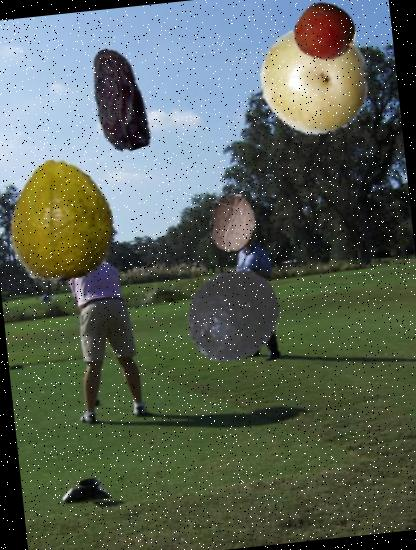Avocado: (180, 262, 290, 372)
Cocos: (198, 190, 262, 256)
Dates: (60, 43, 176, 158)
Guava: (0, 153, 127, 287)
Maracuja: (254, 19, 376, 141)
Melon: (0, 160, 121, 289)
Peach: (291, 0, 358, 65)
